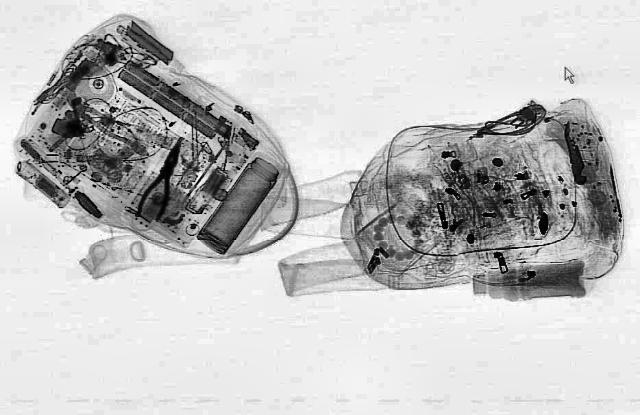Pliers: (132, 134, 192, 222)
